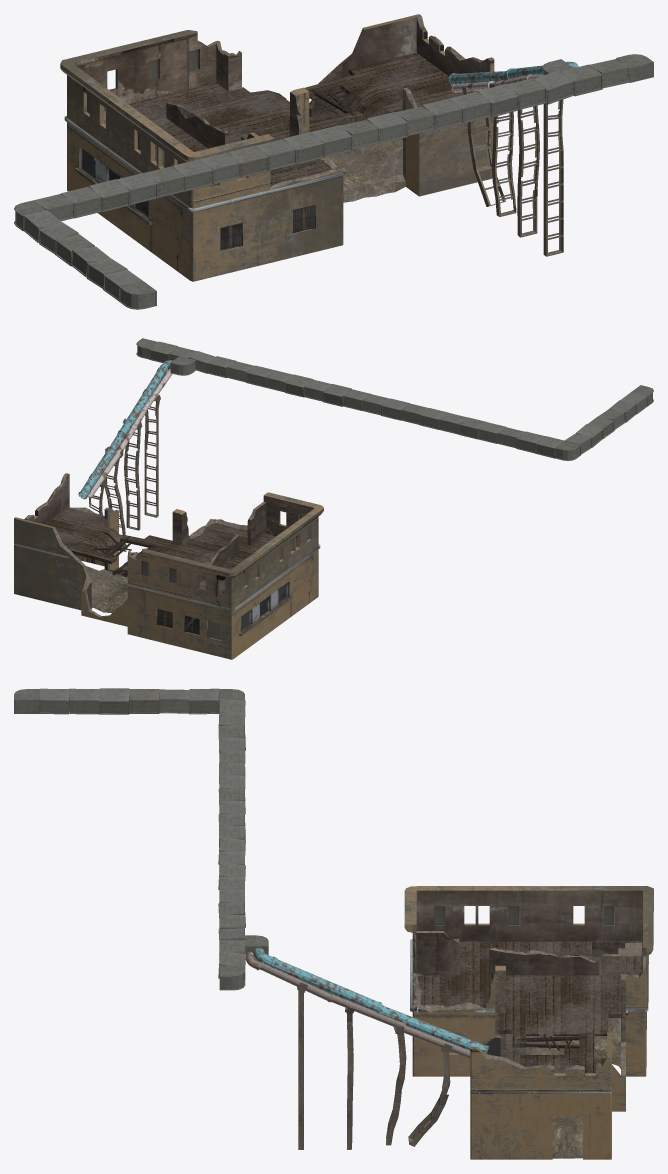
Rendered from Start_houseV1.fbx.
3 renders of one model, top to bottom at view 1: azimuth 30°, elevation 25°; view 2: azimuth 150°, elevation 25°; view 3: azimuth 270°, elevation 25°, orthographic. The views are drawn at different scales.
Parts seen in each view (by area): view 1: start_house.001, tube; view 2: start_house.001, tube; view 3: start_house.001, tube.
Part boxes in pixels (<box>): start_house.001: <box>60,14,494,281</box>; tube: <box>14,54,653,309</box>; start_house.001: <box>14,473,323,659</box>; tube: <box>78,338,653,536</box>; start_house.001: <box>404,886,653,1159</box>; tube: <box>14,688,488,1149</box>.
Bounding box in the file's own units: 6824 × 2199 × 6413.
